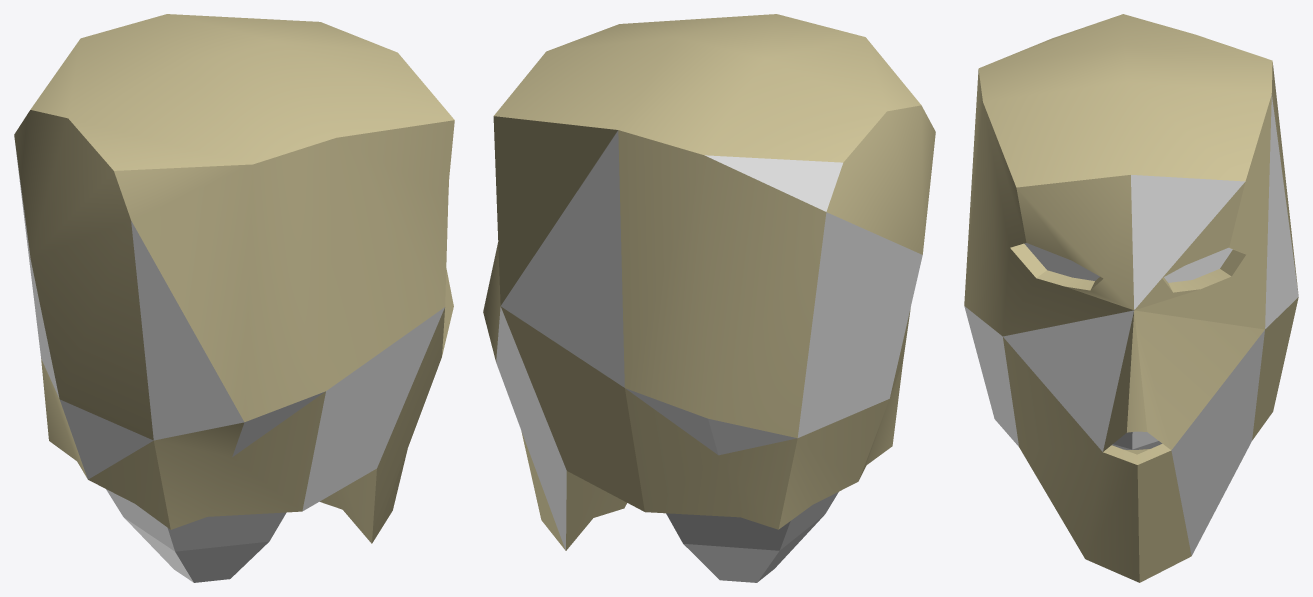
File: crane.fbx
3 views of the same model, side by side, from view 1: azimuth 30°, elevation 25°; view 2: azimuth 150°, elevation 25°; view 3: azimuth 270°, elevation 25° (orthographic). The views are drawn at different scales.
Visible parts, largest first — view 1: Crane; view 2: Crane; view 3: Crane.
Boxes of the visible parts, left/top/right/bottom form: Crane: left=14, top=14, right=454, bottom=582; Crane: left=483, top=14, right=935, bottom=582; Crane: left=964, top=14, right=1298, bottom=582.
Bounding box in the file's own units: 60.75 × 70.02 × 46.81.
